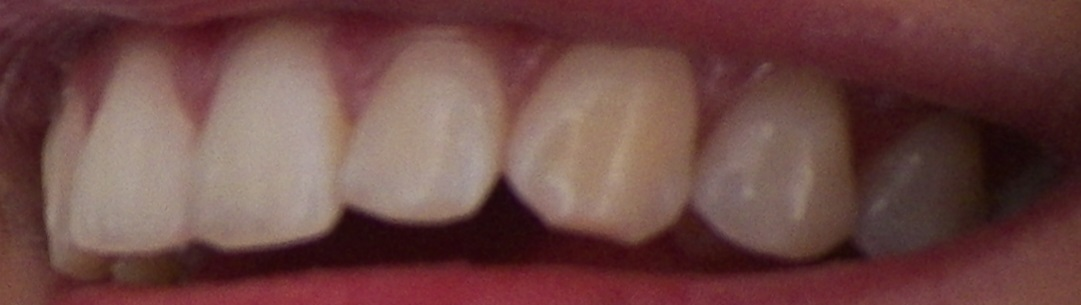boca: (39, 34, 985, 292)
